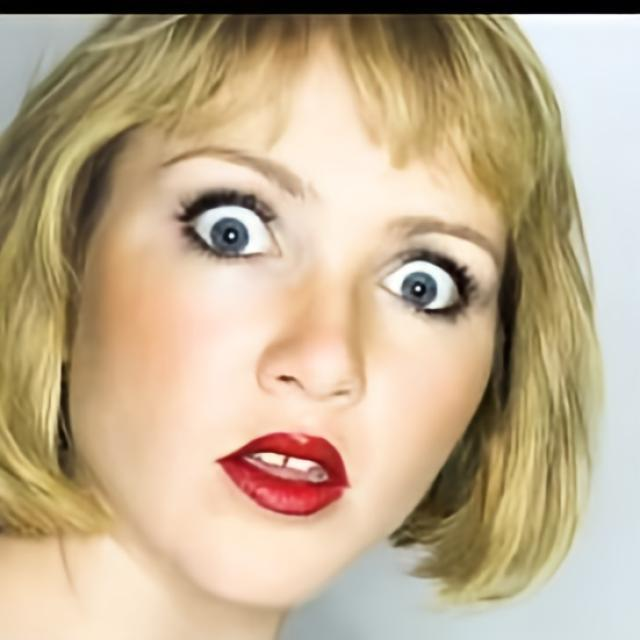surprise: (67, 14, 504, 612)
